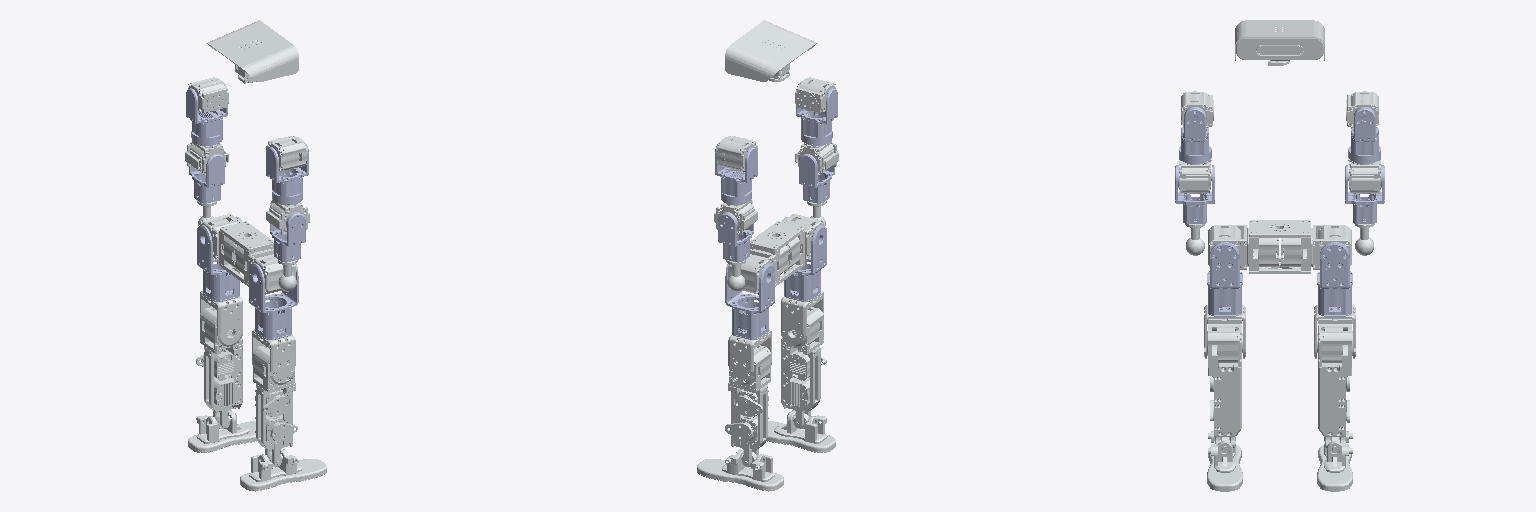
--- What the picture shows (computed from the rendered views, not written in the file) ---
The picture shows the robot from 3 angles, left to right: view 1: azimuth 30°, elevation 25°; view 2: azimuth 150°, elevation 25°; view 3: azimuth 270°, elevation 25°; orthographic projection.
Model hi_25dof with 27 links and 26 joints (25 revolute, 1 floating), rooted at world, posed all joints at 0.
Visible links, largest first — view 1: l_hip_calf_link, head_pitch_link, r_hip_calf_link, r_hip_roll_link, r_ankle_roll_link, base_link, l_hip_roll_link, l_ankle_roll_link, r_shoulder_roll_link, l_shoulder_roll_link, r_hip_thigh_link, l_hip_thigh_link (+8 smaller); view 2: r_hip_calf_link, head_pitch_link, l_hip_calf_link, l_hip_roll_link, l_ankle_roll_link, base_link, r_hip_roll_link, r_ankle_roll_link, l_shoulder_roll_link, r_shoulder_roll_link, l_hip_thigh_link, r_hip_thigh_link (+8 smaller); view 3: l_hip_calf_link, r_hip_calf_link, head_pitch_link, base_link, l_hip_roll_link, r_hip_roll_link, l_ankle_roll_link, r_ankle_roll_link, l_shoulder_roll_link, r_shoulder_roll_link, l_elbow_link, r_elbow_link (+8 smaller).
Boxes of the visible links, box(x1,y1,x2,y2) form: l_hip_calf_link: box(196, 307, 242, 427); head_pitch_link: box(207, 20, 298, 81); r_hip_calf_link: box(253, 345, 297, 466); r_hip_roll_link: box(249, 263, 298, 339); r_ankle_roll_link: box(240, 449, 326, 491); base_link: box(219, 221, 273, 286); l_hip_roll_link: box(197, 217, 241, 301); l_ankle_roll_link: box(188, 410, 256, 452); r_shoulder_roll_link: box(266, 142, 308, 205); l_shoulder_roll_link: box(186, 81, 227, 145); r_hip_thigh_link: box(252, 329, 295, 384); l_hip_thigh_link: box(200, 291, 242, 346); r_hip_calf_link: box(781, 307, 826, 427); head_pitch_link: box(725, 20, 816, 81); l_hip_calf_link: box(725, 345, 770, 466); l_hip_roll_link: box(725, 263, 774, 339); l_ankle_roll_link: box(697, 449, 783, 491); base_link: box(750, 221, 804, 286); r_hip_roll_link: box(782, 217, 826, 301); r_ankle_roll_link: box(767, 410, 835, 452); l_shoulder_roll_link: box(715, 142, 757, 205); r_shoulder_roll_link: box(796, 81, 837, 145); l_hip_thigh_link: box(728, 329, 771, 384); r_hip_thigh_link: box(781, 291, 823, 346); l_hip_calf_link: box(1318, 324, 1352, 447); r_hip_calf_link: box(1207, 324, 1241, 447); head_pitch_link: box(1235, 20, 1324, 60); base_link: box(1247, 220, 1312, 273); l_hip_roll_link: box(1317, 242, 1352, 316); r_hip_roll_link: box(1207, 242, 1242, 316); l_ankle_roll_link: box(1317, 431, 1352, 491); r_ankle_roll_link: box(1207, 431, 1242, 491); l_shoulder_roll_link: box(1348, 107, 1380, 163); r_shoulder_roll_link: box(1179, 107, 1211, 163); l_elbow_link: box(1345, 165, 1384, 223); r_elbow_link: box(1175, 165, 1214, 223).
Bounding box of the posed robot: 0.1775 × 0.3796 × 0.8853 m (x, y, z).
25 mesh visuals loaded from 26 distinct referenced files (25 binary STL); not drawn: 1 (reference not matched to a file when rendering).

URDF robot description (hi_25dof):
<?xml version="1.0" encoding="utf-8"?>
<!-- This URDF was automatically created by SolidWorks to URDF Exporter! Originally created by Stephen Brawner ([email redacted]) 
     Commit Version: 1.6.0-4-g7f85cfe  Build Version: 1.6.7995.38578
     For more information, please see http://wiki.ros.org/sw_urdf_exporter -->
<robot
  name="hi_25dof">
      <mujoco>                                                                                                                                          
        <compiler meshdir="../meshes/" balanceinertia="true" discardvisual="false" />                                                                 
      </mujoco> 
  <!-- [CAUTION] uncomment when convert to mujoco -->
  <link name="world"></link>
  <joint name="floating_base_joint" type="floating">
    <parent link="world" />
    <child link="base_link" />
  </joint>

  <link
    name="base_link">
    <inertial>
      <origin
        xyz="0 0 -0.0394294"
        rpy="0 0 0" />
      <mass
        value="1.4258135" />
      <inertia
        ixx="0.0020535"
        ixy="-8.4E-06"
        ixz="0"
        iyy="0.0005015"
        iyz="0"
        izz="0.0018257" />
    </inertial>
    <visual>
      <origin
        xyz="0 0 0"
        rpy="0 0 0" />
      <geometry>
        <mesh
          filename="../meshes/base_link.STL" />
      </geometry>
      <material
        name="">
        <color
          rgba="0.89804 0.91765 0.92941 1" />
      </material>
    </visual>
    <collision>
      <!-- <origin
        xyz="0 0 0"
        rpy="0 0 0" />
      <geometry>
        <mesh
          filename="../meshes/base_link.STL" />
      </geometry> -->


      <origin
        xyz="0.0 0.0 -0.04"
        rpy="0 0 0" />
      <geometry>
				<box size="0.05 0.1 0.065" />
      </geometry>


    </collision>
  </link>
  <link
    name="l_hip_pitch_link">
    <inertial>
      <origin
        xyz="0.0003884 0.067835 8.28E-05"
        rpy="0 0 0" />
      <mass
        value="0.66505" />
      <inertia
        ixx="0.0001924"
        ixy="-8E-07"
        ixz="1E-07"
        iyy="0.0001895"
        iyz="-5E-07"
        izz="0.0002239" />
    </inertial>
    <visual>
      <origin
        xyz="0 0 0"
        rpy="0 0 0" />
      <geometry>
        <mesh
          filename="../meshes/l_hip_pitch_link.STL" />
      </geometry>
      <material
        name="">
        <color
          rgba="0.89804 0.91765 0.92941 1" />
      </material>
    </visual>
    <collision>
      <!-- <origin
        xyz="0 0 0"
        rpy="0 0 0" />
      <geometry>
        <mesh
          filename="../meshes/l_hip_pitch_link.STL" />
      </geometry> -->
      <origin
        xyz="0 0.065 0"
        rpy="0 0 0" />
      <geometry>
				<box size="0.06 0.07 0.06" />
      </geometry>

    </collision>
  </link>
  <joint
    name="l_hip_pitch_joint"
    type="revolute">
    <origin
      xyz="0 0.0295 -0.04"
      rpy="0 0 0" />
    <parent
      link="base_link" />
    <child
      link="l_hip_pitch_link" />
    <axis
      xyz="0 1 0" />
    <limit
      lower="-3.0369"
      upper="3.0369"
      effort="32.4"
      velocity="5.55" />
  </joint>
  <link
    name="l_hip_roll_link">
    <inertial>
      <origin
        xyz="0.0009598 0.0001312 -0.081116"
        rpy="0 0 0" />
      <mass
        value="0.78331" />
      <inertia
        ixx="0.00126"
        ixy="1E-06"
        ixz="-5.05E-05"
        iyy="0.0014624"
        iyz="1.3E-06"
        izz="0.0004951" />
    </inertial>
    <visual>
      <origin
        xyz="0 0 0"
        rpy="0 0 0" />
      <geometry>
        <mesh
          filename="../meshes/l_hip_roll_link.STL" />
      </geometry>
      <material
        name="">
        <color
          rgba="0.79216 0.81961 0.93333 1" />
      </material>
    </visual>
    <collision>
      <!-- <origin
        xyz="0 0 0"
        rpy="0 0 0" />
      <geometry>
        <mesh
          filename="../meshes/l_hip_roll_link.STL" />
      </geometry>
 -->
      <origin
        xyz="0.0 0 -0.09"
        rpy="0 0 0" />
      <geometry>
				<box size="0.06 0.07 0.06" />
      </geometry>

    </collision>
  </link>
  <joint
    name="l_hip_roll_joint"
    type="revolute">
    <origin
      xyz="0 0.07 0"
      rpy="0 0 0" />
    <parent
      link="l_hip_pitch_link" />
    <child
      link="l_hip_roll_link" />
    <axis
      xyz="1 0 0" />
    <limit
      lower="-0.45379"
      upper="2.618"
      effort="32.4"
      velocity="5.55" />
  </joint>
  <link
    name="l_hip_thigh_link">
    <inertial>
      <origin
        xyz="0 -0.00080909 -0.059296"
        rpy="0 0 0" />
      <mass
        value="0.24756" />
      <inertia
        ixx="0.0003962"
        ixy="0"
        ixz="0"
        iyy="0.0002476"
        iyz="-7.7E-06"
        izz="0.0002689" />
    </inertial>
    <visual>
      <origin
        xyz="0 0 0"
        rpy="0 0 0" />
      <geometry>
        <mesh
          filename="../meshes/l_hip_thigh_link.STL" />
      </geometry>
      <material
        name="">
        <color
          rgba="0.89804 0.91765 0.92941 1" />
      </material>
    </visual>
    <collision>
      <!-- <origin
        xyz="0 0 0"
        rpy="0 0 0" />
      <geometry>
        <mesh
          filename="../meshes/l_hip_thigh_link.STL" />
      </geometry> -->
      <origin
        xyz="0 0 -0.005"
        rpy="0 0 0" />
      <geometry>
				<box size="0.01 0.01 0.01" />
      </geometry>

    </collision>
  </link>
  <joint
    name="l_hip_thigh_joint"
    type="revolute">
    <origin
      xyz="0 0 -0.095"
      rpy="0 0 0" />
    <parent
      link="l_hip_roll_link" />
    <child
      link="l_hip_thigh_link" />
    <axis
      xyz="0 0 1" />
    <limit
      lower="-0.7854"
      upper="0.7854"
      effort="32.4"
      velocity="5.55" />
  </joint>
  <link
    name="l_hip_calf_link">
    <inertial>
      <origin
        xyz="0.0010123 -0.0024674 -0.064494"
        rpy="0 0 0" />
      <mass
        value="1.6427" />
      <inertia
        ixx="0.0060015"
        ixy="9.6E-06"
        ixz="6.34E-05"
        iyy="0.0060609"
        iyz="-0.0001427"
        izz="0.000548" />
    </inertial>
    <visual>
      <origin
        xyz="0 0 0"
        rpy="0 0 0" />
      <geometry>
        <mesh
          filename="../meshes/l_hip_calf_link.STL" />
      </geometry>
      <material
        name="">
        <color
          rgba="0.89804 0.91765 0.92941 1" />
      </material>
    </visual>
    <collision>
      <!-- <origin
        xyz="0 0 0"
        rpy="0 0 0" />
      <geometry>
        <mesh
          filename="../meshes/l_hip_calf_link.STL" />
      </geometry> -->

      <origin
        xyz="0.0 0.0 -0.06"
        rpy="0 0 0" />
      <geometry>
				<box size="0.06 0.06 0.21" />
      </geometry>

    </collision>
  </link>
  <joint
    name="l_hip_calf_joint"
    type="revolute">
    <origin
      xyz="0 0.00375 -0.097"
      rpy="0 0 0" />
    <parent
      link="l_hip_thigh_link" />
    <child
      link="l_hip_calf_link" />
    <axis
      xyz="0 1 0" />
    <limit
      lower="-1.5708"
      upper="2.0944"
      effort="32.4"
      velocity="5.55" />
  </joint>
  <link
    name="l_ankle_pitch_link">
    <inertial>
      <origin
        xyz="0 0 0"
        rpy="0 0 0" />
      <mass
        value="0.056538" />
      <inertia
        ixx="4.9E-06"
        ixy="0"
        ixz="0"
        iyy="4.7E-06"
        iyz="0"
        izz="6.3E-06" />
    </inertial>
    <visual>
      <origin
        xyz="0 0 0"
        rpy="0 0 0" />
      <geometry>
        <mesh
          filename="../meshes/l_ankle_pitch_link.STL" />
      </geometry>
      <material
        name="">
        <color
          rgba="0.89804 0.91765 0.92941 1" />
      </material>
    </visual>
    <collision>
      <!-- <origin
        xyz="0 0 0"
        rpy="0 0 0" />
      <geometry>
        <mesh
          filename="../meshes/l_ankle_pitch_link.STL" />
      </geometry> -->

      <origin
        xyz="0 0 0"
        rpy="0 0 0" />
      <geometry>
				<box size="0.01 0.01 0.01" />
      </geometry>

    </collision>
  </link>
  <joint
    name="l_ankle_pitch_joint"
    type="revolute">
    <origin
      xyz="0 -0.00375 -0.19945"
      rpy="0 0 0" />
    <parent
      link="l_hip_calf_link" />
    <child
      link="l_ankle_pitch_link" />
    <axis
      xyz="0 1 0" />
    <limit
      lower="-0.90757"
      upper="0.7854"
      effort="14.4"
      velocity="5.45" />
  </joint>
  <link
    name="l_ankle_roll_link">
    <inertial>
      <origin
        xyz="0.017291 0.00079987 -0.030752"
        rpy="0 0 0" />
      <mass
        value="0.59911" />
      <inertia
        ixx="0.0002441"
        ixy="1.5E-06"
        ixz="7.38E-05"
        iyy="0.0013825"
        iyz="-1.25E-05"
        izz="0.0014328" />
    </inertial>
    <visual>
      <origin
        xyz="0 0 0"
        rpy="0 0 0" />
      <geometry>
        <mesh
          filename="../meshes/l_ankle_roll_link.STL" />
      </geometry>
      <material
        name="">
        <color
          rgba="0.89804 0.91765 0.92941 1" />
      </material>
    </visual>
    <collision>
      <origin
        xyz="-0.067 0.033 -0.044"
        rpy="0 0 -1.57" />
      <geometry>
        <mesh
          filename="../meshes/ankle_roll_simplify.STL" scale="0.001 0.001 0.001"/>
      </geometry>
    </collision>
  </link>
  <joint
    name="l_ankle_roll_joint"
    type="revolute">
    <origin
      xyz="0 0 0"
      rpy="0 0 0" />
    <parent
      link="l_ankle_pitch_link" />
    <child
      link="l_ankle_roll_link" />
    <axis
      xyz="1 0 0" />
    <limit
      lower="-0.37525"
      upper="0.37525"
      effort="14.4"
      velocity="5.45" />
  </joint>
  <link
    name="r_hip_pitch_link">
    <inertial>
      <origin
        xyz="0.0003884 -0.067835 -8.28E-05"
        rpy="0 0 0" />
      <mass
        value="0.66505" />
      <inertia
        ixx="0.0001924"
        ixy="8E-07"
        ixz="-1E-07"
        iyy="0.0001895"
        iyz="-5E-07"
        izz="0.0002239" />
    </inertial>
    <visual>
      <origin
        xyz="0 0 0"
        rpy="0 0 0" />
      <geometry>
        <mesh
          filename="../meshes/r_hip_pitch_link.STL" />
      </geometry>
      <material
        name="">
        <color
          rgba="0.89804 0.91765 0.92941 1" />
      </material>
    </visual>
    <collision>
      <!-- <origin
        xyz="0 0 0"
        rpy="0 0 0" />
      <geometry>
        <mesh
          filename="../meshes/r_hip_pitch_link.STL" />
      </geometry> -->

      <origin
        xyz="0 -0.065 0"
        rpy="0 0 0" />
      <geometry>
				<box size="0.06 0.07 0.06" />
      </geometry>

    </collision>
  </link>
  <joint
    name="r_hip_pitch_joint"
    type="revolute">
    <origin
      xyz="0 -0.0295 -0.04"
      rpy="0 0 0" />
    <parent
      link="base_link" />
    <child
      link="r_hip_pitch_link" />
    <axis
      xyz="0 1 0" />
    <limit
      lower="-3.0369"
      upper="3.0369"
      effort="32.4"
      velocity="5.55" />
  </joint>
  <link
    name="r_hip_roll_link">
    <inertial>
      <origin
        xyz="0.0009598 -0.0001312 -0.081116"
        rpy="0 0 0" />
      <mass
        value="0.78331" />
      <inertia
        ixx="0.00126"
        ixy="1E-06"
        ixz="-5.05E-05"
        iyy="0.0014624"
        iyz="-1.3E-06"
        izz="0.0004951" />
    </inertial>
    <visual>
      <origin
        xyz="0 0 0"
        rpy="0 0 0" />
      <geometry>
        <mesh
          filename="../meshes/r_hip_roll_link.STL" />
      </geometry>
      <material
        name="">
        <color
          rgba="0.79216 0.81961 0.93333 1" />
      </material>
    </visual>
    <collision>
      <!-- <origin
        xyz="0 0 0"
        rpy="0 0 0" />
      <geometry>
        <mesh
          filename="../meshes/r_hip_roll_link.STL" />
      </geometry> -->

      <origin
        xyz="0.0 0 -0.09"
        rpy="0 0 0" />
      <geometry>
				<box size="0.06 0.07 0.06" />
      </geometry>

    </collision>
  </link>
  <joint
    name="r_hip_roll_joint"
    type="revolute">
    <origin
      xyz="0 -0.07 0"
      rpy="0 0 0" />
    <parent
      link="r_hip_pitch_link" />
    <child
      link="r_hip_roll_link" />
    <axis
      xyz="1 0 0" />
    <limit
      lower="-2.618"
      upper="0.45379"
      effort="32.4"
      velocity="5.55" />
  </joint>
  <link
    name="r_hip_thigh_link">
    <inertial>
      <origin
        xyz="0 0.00080909 -0.059296"
        rpy="0 0 0" />
      <mass
        value="0.24756" />
      <inertia
        ixx="0.0003962"
        ixy="0"
        ixz="0"
        iyy="0.0002476"
        iyz="7.7E-06"
        izz="0.0002689" />
    </inertial>
    <visual>
      <origin
        xyz="0 0 0"
        rpy="0 0 0" />
      <geometry>
        <mesh
          filename="../meshes/r_hip_thigh_link.STL" />
      </geometry>
      <material
        name="">
        <color
          rgba="0.89804 0.91765 0.92941 1" />
      </material>
    </visual>
    <collision>
      <!-- <origin
        xyz="0 0 0"
        rpy="0 0 0" />
      <geometry>
        <mesh
          filename="../meshes/r_hip_thigh_link.STL" />
      </geometry> -->

      <origin
        xyz="0 0 -0.005"
        rpy="0 0 0" />
      <geometry>
				<box size="0.01 0.01 0.01" />
      </geometry>

    </collision>
  </link>
  <joint
    name="r_hip_thigh_joint"
    type="revolute">
    <origin
      xyz="0 0 -0.095"
      rpy="0 0 0" />
    <parent
      link="r_hip_roll_link" />
    <child
      link="r_hip_thigh_link" />
    <axis
      xyz="0 0 1" />
    <limit
      lower="-0.7854"
      upper="0.7854"
      effort="32.4"
      velocity="5.55" />
  </joint>
  <link
    name="r_hip_calf_link">
    <inertial>
      <origin
        xyz="0.0010123 0.0024674 -0.064494"
        rpy="0 0 0" />
      <mass
        value="1.6427" />
      <inertia
        ixx="0.0060015"
        ixy="-9.6E-06"
        ixz="6.34E-05"
        iyy="0.0060609"
        iyz="0.0001427"
        izz="0.000548" />
    </inertial>
    <visual>
      <origin
        xyz="0 0 0"
        rpy="0 0 0" />
      <geometry>
        <mesh
          filename="../meshes/r_hip_calf_link.STL" />
      </geometry>
      <material
        name="">
        <color
          rgba="0.89804 0.91765 0.92941 1" />
      </material>
    </visual>
    <collision>
      <!-- <origin
        xyz="0 0 0"
        rpy="0 0 0" />
      <geometry>
        <mesh
          filename="../meshes/r_hip_calf_link.STL" />
      </geometry> -->

      <origin
        xyz="0.0 0.0 -0.06"
        rpy="0 0 0" />
      <geometry>
				<box size="0.06 0.06 0.21" />
      </geometry>

    </collision>
  </link>
  <joint
    name="r_hip_calf_joint"
    type="revolute">
    <origin
      xyz="0 -0.00375 -0.097"
      rpy="0 0 0" />
    <parent
      link="r_hip_thigh_link" />
    <child
      link="r_hip_calf_link" />
    <axis
      xyz="0 1 0" />
    <limit
      lower="-1.5708"
      upper="2.0944"
      effort="32.4"
      velocity="5.55" />
  </joint>
  <link
    name="r_ankle_pitch_link">
    <inertial>
      <origin
        xyz="0 0 0"
        rpy="0 0 0" />
      <mass
        value="0.056538" />
      <inertia
        ixx="4.9E-06"
        ixy="0"
        ixz="0"
        iyy="4.7E-06"
        iyz="0"
        izz="6.3E-06" />
    </inertial>
    <visual>
      <origin
        xyz="0 0 0"
        rpy="0 0 0" />
      <geometry>
        <mesh
          filename="../meshes/r_ankle_pitch_link.STL" />
      </geometry>
      <material
        name="">
        <color
          rgba="0.89804 0.91765 0.92941 1" />
      </material>
    </visual>
    <collision>
      <!-- <origin
        xyz="0 0 0"
        rpy="0 0 0" />
      <geometry>
        <mesh
          filename="../meshes/r_ankle_pitch_link.STL" />
      </geometry> -->
      <origin
        xyz="0 0 0"
        rpy="0 0 0" />
      <geometry>
				<box size="0.01 0.01 0.01" />
      </geometry>

    </collision>
  </link>
  <joint
    name="r_ankle_pitch_joint"
    type="revolute">
    <origin
      xyz="0 0.00375 -0.19945"
      rpy="0 0 0" />
    <parent
      link="r_hip_calf_link" />
    <child
      link="r_ankle_pitch_link" />
    <axis
      xyz="0 1 0" />
    <limit
      lower="-0.90757"
      upper="0.7854"
      effort="14.4"
      velocity="5.45" />
  </joint>
  <link
    name="r_ankle_roll_link">
    <inertial>
      <origin
        xyz="0.017291 -0.00079987 -0.030725"
        rpy="0 0 0" />
      <mass
        value="0.59911" />
      <inertia
        ixx="0.0002441"
        ixy="-1.5E-06"
        ixz="7.38E-05"
        iyy="0.0013825"
        iyz="1.25E-05"
        izz="0.0014328" />
    </inertial>
    <visual>
      <origin
        xyz="0 0 0"
        rpy="0 0 0" />
      <geometry>
        <mesh
          filename="../meshes/r_ankle_roll_link.STL" />
      </geometry>
      <material
        name="">
        <color   
          rgba="0.89804 0.91765 0.92941 1" />
      </material>
    </visual>
    <collision>
      <origin
        xyz="-0.067 0.033 -0.044"
        rpy="0 0 -1.57" />
      <geometry>
        <mesh
          filename="../meshes/ankle_roll_simplify.STL" scale="0.001 0.001 0.001" />
      </geometry>
    </collision>
  </link>
  <joint
    name="r_ankle_roll_joint"
    type="revolute">
    <origin
      xyz="0 0 0"
      rpy="0 0 0" />
    <parent
      link="r_ankle_pitch_link" />
    <child
      link="r_ankle_roll_link" />
    <axis
      xyz="1 0 0" />
    <limit
      lower="-0.37525"
      upper="0.37525"
      effort="14.4"
      velocity="5.45" />
  </joint>
  <link
    name="waist_yaw_link">
    <inertial>
      <origin
        xyz="-0.003622 5.65E-05 0.1420733"
        rpy="0 0 0" />
      <mass
        value="5.1985093" />
      <inertia
        ixx="0.0536682"
        ixy="-1.82E-05"
        ixz="0.000512"
        iyy="0.0377439"
        iyz="3.87E-05"
        izz="0.0264819" />
    </inertial>
    <visual>
      <origin
        xyz="0 0 0"
        rpy="0 0 0" />
      <geometry>
        <mesh
          filename="../meshes/waist_yaw_link.STL" />
      </geometry>
      <material
        name="">
        <color
          rgba="0.89804 0.91765 0.92941 1" />
      </material>
    </visual>
    <collision>
      <!-- <origin
        xyz="0 0 0"
        rpy="0 0 0" />
      <geometry>
        <mesh
          filename="../meshes/waist_yaw_link.STL" />
      </geometry> -->
      <origin
        xyz="0 0 0.0"
        rpy="0 0 0" />
      <geometry>
				<box size="0.09 0.07 0.05" />
      </geometry>
    </collision>

   <collision>
        <origin
        xyz="0.0 0.0 0.14"
        rpy="0 0 0" />
      <geometry>
				<box size="0.12 0.2 0.21" />
      </geometry>
  </collision>

  </link>
  <joint
    name="waist_yaw_joint"
    type="revolute">
    <origin
      xyz="0 0 0.028"
      rpy="0 0 0" />
    <parent
      link="base_link" />
    <child
      link="waist_yaw_link" />
    <axis
      xyz="0 0 1" />
    <limit
      lower="-3.14"
      upper="3.14"
      effort="32.4"
      velocity="5.55" />
  </joint>
  <link
    name="l_shoulder_pitch_link">
    <inertial>
      <origin
        xyz="0.0013054 0.054423 0.0002632"
        rpy="0 0 0" />
      <mass
        value="0.39952" />
      <inertia
        ixx="0.0001044"
        ixy="-1.7E-06"
        ixz="1E-07"
        iyy="9.85E-05"
        iyz="-9E-07"
        izz="0.0001254" />
    </inertial>
    <visual>
      <origin
        xyz="0 0 0"
        rpy="0 0 0" />
      <geometry>
        <mesh
          filename="../meshes/l_shoulder_pitch_link.STL" />
      </geometry>
      <material
        name="">
        <color
          rgba="0.89804 0.91765 0.92941 1" />
      </material>
    </visual>
    <collision>

      <origin
        xyz="0 0.053 0"
        rpy="0 0 0" />
      <geometry>
				<box size="0.05 0.06 0.05" />
      </geometry>


    </collision>
    
  </link>
  <joint
    name="l_shoulder_pitch_joint"
    type="revolute">
    <origin
      xyz="0 0.0958 0.205"
      rpy="0 0 0" />
    <parent
      link="waist_yaw_link" />
    <child
      link="l_shoulder_pitch_link" />
    <axis
      xyz="0 1 0" />
    <limit
      lower="-3.1241"
      upper="2.9496"
      effort="14.4"
      velocity="5.45" />
  </joint>
  <link
    name="l_shoulder_roll_link">
    <inertial>
      <origin
        xyz="-0.0015954 -0.0001172 -0.067095"
        rpy="0 0 0" />
      <mass
        value="0.45185" />
      <inertia
        ixx="0.0003602"
        ixy="-5E-07"
        ixz="3.69E-05"
        iyy="0.0004216"
        iyz="3E-07"
        izz="0.0001735" />
    </inertial>
    <visual>
      <origin
        xyz="0 0 0"
        rpy="0 0 0" />
      <geometry>
        <mesh
          filename="../meshes/l_shoulder_roll_link.STL" />
      </geometry>
      <material
        name="">
        <color
          rgba="0.79216 0.81961 0.93333 1" />
      </material>
    </visual>
    <collision>
      <!-- <origin
        xyz="0 0 0"
        rpy="0 0 0" />
      <geometry>
        <mesh
          filename="../meshes/l_shoulder_roll_link.STL" />
      </geometry> -->

      <origin
        xyz="0.0 0.0 -0.07"
        rpy="0 0 0" />
      <geometry>
				<box size="0.05 0.05 0.05" />
      </geometry>

    </collision>
  </link>
  <joint
    name="l_shoulder_roll_joint"
    type="revolute">
    <origin
      xyz="0 0.05775 0"
      rpy="0 0 0" />
    <parent
      link="l_shoulder_pitch_link" />
    <child
      link="l_shoulder_roll_link" />
    <axis
      xyz="1 0 0" />
    <limit
      lower="-0.17453"
      upper="3.3161"
      effort="14.4"
      velocity="5.45" />
  </joint>
  <link
    name="l_upper_arm_link">
    <inertial>
      <origin
        xyz="-0.000502 0.001614 -0.057008"
        rpy="0 0 0" />
      <mass
        value="0.41729" />
      <inertia
        ixx="0.0001331"
        ixy="-1E-07"
        ixz="-9E-07"
        iyy="0.0001211"
        iyz="3.3E-06"
        izz="0.0001166" />
    </inertial>
    <visual>
      <origin
        xyz="0 0 0"
        rpy="0 0 0" />
      <geometry>
        <mesh
          filename="../meshes/l_upper_arm_link.STL" />
      </geometry>
      <material
        name="">
        <color
          rgba="0.89804 0.91765 0.92941 1" />
      </material>
    </visual>
    <collision>
      <!-- <origin
        xyz="0 0 0"
        rpy="0 0 0" />
      <geometry>
        <mesh
          filename="../meshes/l_upper_arm_link.STL" />
      </geometry> -->

      <origin
        xyz="0 0 -0.06"
        rpy="0 0 0" />
      <geometry>
				<box size="0.05 0.05 0.05" />
      </geometry>

    </collision>
  </link>
  <joint
    name="l_upper_arm_joint"
    type="revolute">
    <origin
      xyz="0 -0.00025 -0.07135"
      rpy="0 0 0" />
    <parent
      link="l_shoulder_roll_link" />
    <child
      link="l_upper_arm_link" />
    <axis
      xyz="0 0 1" />
    <limit
      lower="-3.0543"
      upper="3.0543"
      effort="14.4"
      velocity="5.45" />
  </joint>
  <link
    name="l_elbow_link">
    <inertial>
      <origin
        xyz="-0.0001603 -0.0025954 -0.055121"
        rpy="0 0 0" />
      <mass
        value="0.27631" />
      <inertia
        ixx="0.0002928"
        ixy="-3E-07"
        ixz="3E-07"
        iyy="0.0002306"
        iyz="2.81E-05"
        izz="0.0001213" />
    </inertial>
    <visual>
      <origin
        xyz="0 0 0"
        rpy="0 0 0" />
      <geometry>
        <mesh
          filename="../meshes/l_elbow_link.STL" />
      </geometry>
      <material
        name="">
        <color
          rgba="0.79216 0.81961 0.93333 1" />
      </material>
    </visual>
    <collision>
      <!-- <origin
        xyz="0 0 0"
        rpy="0 0 0" />
      <geometry>
        <mesh
          filename="../meshes/l_elbow_link.STL" />
      </geometry> -->

      <origin
        xyz="0.0 0.0 -0.065"
        rpy="0 0 0" />
      <geometry>
				<box size="0.04 0.04 0.04" />
      </geometry>

    </collision>
  </link>
  <joint
    name="l_elbow_joint"
    type="revolute">
    <origin
      xyz="0 0 -0.06035"
      rpy="0 0 0" />
    <parent
      link="l_upper_arm_link" />
    <child
      link="l_elbow_link" />
    <axis
      xyz="0 1 0" />
    <limit
      lower="-1.9548"
      upper="1.9548"
      effort="14.4"
      velocity="5.45" />
  </joint>
  <link
    name="l_wrist_link">
    <inertial>
      <origin
        xyz="-0.00025 0 -0.049418"
        rpy="0 0 0" />
      <mass
        value="0.056855" />
      <inertia
        ixx="2.88E-05"
        ixy="0"
        ixz="0"
        iyy="2.88E-05"
        iyz="0"
        izz="6.4E-06" />
    </inertial>
    <visual>
      <origin
        xyz="0 0 0"
        rpy="0 0 0" />
      <geometry>
        <mesh
          filename="../meshes/l_wrist_link.STL" />
      </geometry>
      <material
        name="">
        <color
          rgba="0.89804 0.91765 0.92941 1" />
      </material>
    </visual>
    <collision>
      <!-- <origin
        xyz="0 0 0"
        rpy="0 0 0" />
      <geometry>
        <mesh
          filename="../meshes/l_wrist_link.STL" />
      </geometry> -->

      <origin
        xyz="0 0 -0.043"
        rpy="0 0 0" />
      <geometry>
				<box size="0.02 0.02 0.025" />
        <!--mesh
          filename="hi_25dof_250607/meshes/l_wrist_link.STL" /-->
      </geometry>

    </collision>

      <collision  name="end_collision">
        <origin
          xyz="0 0 -0.072"
          rpy="0 0 0" />
        <geometry>
          <sphere  radius="0.0175"/>
        </geometry>
      </collision>


  </link>
  <joint
    name="l_wrist_joint"
    type="revolute">
    <origin
      xyz="0 0 -0.0667"
      rpy="0 0 0" />
    <parent
      link="l_elbow_link" />
    <child
      link="l_wrist_link" />
    <axis
      xyz="0 0 1" />
    <limit
      lower="-3.14"
      upper="3.14"
      effort="9"
      velocity="15.91" />
  </joint>
  <link
    name="r_shoulder_pitch_link">
    <inertial>
      <origin
        xyz="0.0013054 -0.054423 -0.0002632"
        rpy="0 0 0" />
      <mass
        value="0.39952" />
      <inertia
        ixx="0.0001044"
        ixy="1.7E-06"
        ixz="-1E-07"
        iyy="9.85E-05"
        iyz="-9E-07"
        izz="0.0001254" />
    </inertial>
    <visual>
      <origin
        xyz="0 0 0"
        rpy="0 0 0" />
      <geometry>
        <mesh
          filename="../meshes/r_shoulder_pitch_link.STL" />
      </geometry>
      <material
        name="">
        <color
          rgba="0.89804 0.91765 0.92941 1" />
      </material>
    </visual>
    <collision>
      <!-- <origin
        xyz="0 0 0"
        rpy="0 0 0" />
      <geometry>
        <mesh
          filename="../meshes/r_shoulder_pitch_link.STL" />
      </geometry> -->

      <origin
        xyz="0 -0.053 0"
        rpy="0 0 0" />
      <geometry>
				<box size="0.05 0.06 0.05" />
      </geometry>

    </collision>
  </link>
  <joint
    name="r_shoulder_pitch_joint"
    type="revolute">
    <origin
      xyz="0 -0.0958 0.205"
      rpy="0 0 0" />
    <parent
      link="waist_yaw_link" />
    <child
      link="r_shoulder_pitch_link" />
    <axis
      xyz="0 1 0" />
    <limit
      lower="-3.1241"
      upper="2.9496"
      effort="14.4"
      velocity="5.45" />
  </joint>
  <link
    name="r_shoulder_roll_link">
    <inertial>
      <origin
        xyz="-0.0015954 0.0001172 -0.067095"
        rpy="0 0 0" />
      <mass
        value="0.45185" />
      <inertia
        ixx="0.0003602"
        ixy="-5E-07"
        ixz="3.69E-05"
        iyy="0.0004216"
        iyz="-3E-07"
        izz="0.0001735" />
    </inertial>
    <visual>
      <origin
        xyz="0 0 0"
        rpy="0 0 0" />
      <geometry>
        <mesh
          filename="../meshes/r_shoulder_roll_link.STL" />
      </geometry>
      <material
        name="">
        <color
          rgba="0.79216 0.81961 0.93333 1" />
      </material>
    </visual>
    <collision>
      <!-- <origin
        xyz="0 0 0"
        rpy="0 0 0" />
      <geometry>
        <mesh
          filename="../meshes/r_shoulder_roll_link.STL" />
      </geometry> -->

      <origin
        xyz="0 0 -0.07"
        rpy="0 0 0" />
      <geometry>
				<box size="0.05 0.05 0.05" />
      </geometry>

    </collision>
  </link>
  <joint
    name="r_shoulder_roll_joint"
    type="revolute">
    <origin
      xyz="0 -0.05775 0"
      rpy="0 0 0" />
    <parent
      link="r_shoulder_pitch_link" />
    <child
      link="r_shoulder_roll_link" />
    <axis
      xyz="1 0 0" />
    <limit
      lower="-3.3161"
      upper="0.17453"
      effort="14.4"
      velocity="5.45" />
  </joint>
  <link
    name="r_upper_arm_link">
    <inertial>
      <origin
        xyz="-0.000502 -0.001614 -0.057008"
        rpy="0 0 0" />
      <mass
        value="0.41729" />
      <inertia
        ixx="0.0001331"
        ixy="-1E-07"
        ixz="9E-07"
        iyy="0.0001211"
        iyz="-3.3E-06"
        izz="0.0001166" />
    </inertial>
    <visual>
      <origin
        xyz="0 0 0"
        rpy="0 0 0" />
      <geometry>
        <mesh
          filename="../meshes/r_upper_arm_link.STL" />
      </geometry>
      <material
        name="">
        <color
          rgba="0.89804 0.91765 0.92941 1" />
      </material>
    </visual>
    <collision>
      <!-- <origin
        xyz="0 0 0"
        rpy="0 0 0" />
      <geometry>
        <mesh
          filename="../meshes/r_upper_arm_link.STL" />
      </geometry> -->

      <origin
        xyz="0 0 -0.06"
        rpy="0 0 0" />
      <geometry>
				<box size="0.05 0.05 0.05" />
      </geometry>


    </collision>
  </link>
  <joint
    name="r_upper_arm_joint"
    type="revolute">
    <origin
      xyz="0 0.00025 -0.07135"
      rpy="0 0 0" />
    <parent
      link="r_shoulder_roll_link" />
    <child
      link="r_upper_arm_link" />
    <axis
      xyz="0 0 1" />
    <limit
      lower="-3.0543"
      upper="3.0543"
      effort="14.4"
      velocity="5.45" />
  </joint>
  <link
    name="r_elbow_link">
    <inertial>
      <origin
        xyz="-0.0001603 0.0025954 -0.055121"
        rpy="0 0 0" />
      <mass
        value="0.27631" />
      <inertia
        ixx="0.0002928"
        ixy="-3E-07"
        ixz="-3E-07"
        iyy="0.0002306"
        iyz="-2.81E-05"
        izz="0.0001213" />
    </inertial>
    <visual>
      <origin
        xyz="0 0 0"
        rpy="0 0 0" />
      <geometry>
        <mesh
          filename="../meshes/r_elbow_link.STL" />
      </geometry>
      <material
        name="">
        <color
          rgba="0.79216 0.81961 0.93333 1" />
      </material>
    </visual>
    <collision>
      <!-- <origin
        xyz="0 0 0"
        rpy="0 0 0" />
      <geometry>
        <mesh
          filename="../meshes/r_elbow_link.STL" />
      </geometry> -->

      <origin
        xyz="0.0 0.0 -0.065"
        rpy="0 0 0" />
      <geometry>
				<box size="0.04 0.04 0.04" />
      </geometry>


    </collision>
  </link>
  <joint
    name="r_elbow_joint"
    type="revolute">
    <origin
      xyz="0 0 -0.06035"
      rpy="0 0 0" />
    <parent
      link="r_upper_arm_link" />
    <child
      link="r_elbow_link" />
    <axis
      xyz="0 1 0" />
    <limit
      lower="-1.9548"
      upper="1.9548"
      effort="14.4"
      velocity="5.45" />
  </joint>
  <link
    name="r_wrist_link">
    <inertial>
      <origin
        xyz="-0.00025 0 -0.049418"
        rpy="0 0 0" />
      <mass
        value="0.056855" />
      <inertia
        ixx="2.88E-05"
        ixy="0"
        ixz="0"
        iyy="2.88E-05"
        iyz="0"
        izz="6.4E-06" />
    </inertial>
    <visual>
      <origin
        xyz="0 0 0"
        rpy="0 0 0" />
      <geometry>
        <mesh
          filename="../meshes/r_wrist_link.STL" />
      </geometry>
      <material
        name="">
        <color
          rgba="0.89804 0.91765 0.92941 1" />
      </material>
    </visual>
    <collision>
      <!-- <origin
        xyz="0 0 0"
        rpy="0 0 0" />
      <geometry>
        <mesh
          filename="../meshes/r_wrist_link.STL" />
      </geometry> -->
      <origin
        xyz="0 0 -0.043"
        rpy="0 0 0" />
      <geometry>
				<box size="0.02 0.02 0.025" />
      </geometry>

    </collision>

      <collision  name="end_collision">
        <origin
          xyz="0 0 -0.072"
          rpy="0 0 0" />
        <geometry>
          <sphere  radius="0.0175"/>
        </geometry>
      </collision>


    
  </link>
  <joint
    name="r_wrist_joint"
    type="revolute">
    <origin
      xyz="0 0 -0.0667"
      rpy="0 0 0" />
    <parent
      link="r_elbow_link" />
    <child
      link="r_wrist_link" />
    <axis
      xyz="0 0 1" />
    <limit
      lower="-3.14"
      upper="3.14"
      effort="9"
      velocity="15.91" />
  </joint>
  <link
    name="head_yaw_link">
    <inertial>
      <origin
        xyz="2.07E-05 0.002718 0.0410253"
        rpy="0 0 0" />
      <mass
        value="0.1759908" />
      <inertia
        ixx="2.05E-05"
        ixy="0"
        ixz="0"
        iyy="1.67E-05"
        iyz="-2.8E-06"
        izz="1.38E-05" />
    </inertial>
    <visual>
      <origin
        xyz="0 0 0"
        rpy="0 0 0" />
      <geometry>
        <mesh
          filename="../meshes/head_yaw_link.STL" />
      </geometry>
      <material
        name="">
        <color
          rgba="0.89804 0.91765 0.92941 1" />
      </material>
    </visual>
    <collision>
      <!-- <origin
        xyz="0 0 0"
        rpy="0 0 0" />
      <geometry>
        <mesh
          filename="../meshes/head_yaw_link.STL" />
      </geometry> -->

      <origin
        xyz="0 0 -0.015"
        rpy="0 0 0" />
      <geometry>
				<box size="0.03 0.03 0.03" />
      </geometry>

    </collision>
  </link>
  <joint
    name="head_yaw_joint"
    type="revolute">
    <origin
      xyz="0 0 0.28405"
      rpy="0 0 0" />
    <parent
      link="waist_yaw_link" />
    <child
      link="head_yaw_link" />
    <axis
      xyz="0 0 1" />
    <limit
      lower="-2.0944"
      upper="2.0944"
      effort="1.8"
      velocity="30.37" />
  </joint>
  <link
    name="head_pitch_link">
    <inertial>
      <origin
        xyz="0.0290355 -0.0005714 0.030046"
        rpy="0 0 0" />
      <mass
        value="0.3262268" />
      <inertia
        ixx="0.0007287"
        ixy="4E-06"
        ixz="1.34E-05"
        iyy="0.0003164"
        iyz="2.8E-06"
        izz="0.0009356" />
    </inertial>
    <visual>
      <origin
        xyz="0 0 0"
        rpy="0 0 0" />
      <geometry>
        <mesh
          filename="../meshes/head_pitch_link.STL" />
      </geometry>
      <material
        name="">
        <color
          rgba="0.89804 0.91765 0.92941 1" />
      </material>
    </visual>
    <collision>
      <!-- <origin
        xyz="0 0 0"
        rpy="0 0 0" />
      <geometry>
        <mesh
          filename="../meshes/head_pitch_link.STL" />
      </geometry> -->

      <origin
        xyz="0.0 0.0 0.025"
        rpy="0 0 0" />
      <geometry>
				<box size="0.1 0.15 0.03" />
      </geometry>

    </collision>
  </link>
  <joint
    name="head_pitch_joint"
    type="revolute">
    <origin
      xyz="0 0.0015 0.04355"
      rpy="0 0 0" />
    <parent
      link="head_yaw_link" />
    <child
      link="head_pitch_link" />
    <axis
      xyz="0 1 0" />
    <limit
      lower="-1.8326"
      upper="1.0123"
      effort="1.8"
      velocity="30.37" />
  </joint>
</robot>
